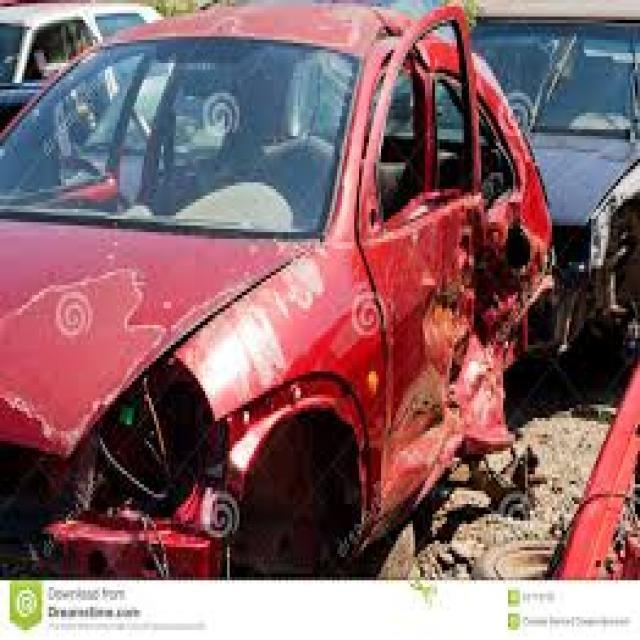damaged-door: (359, 12, 474, 500)
